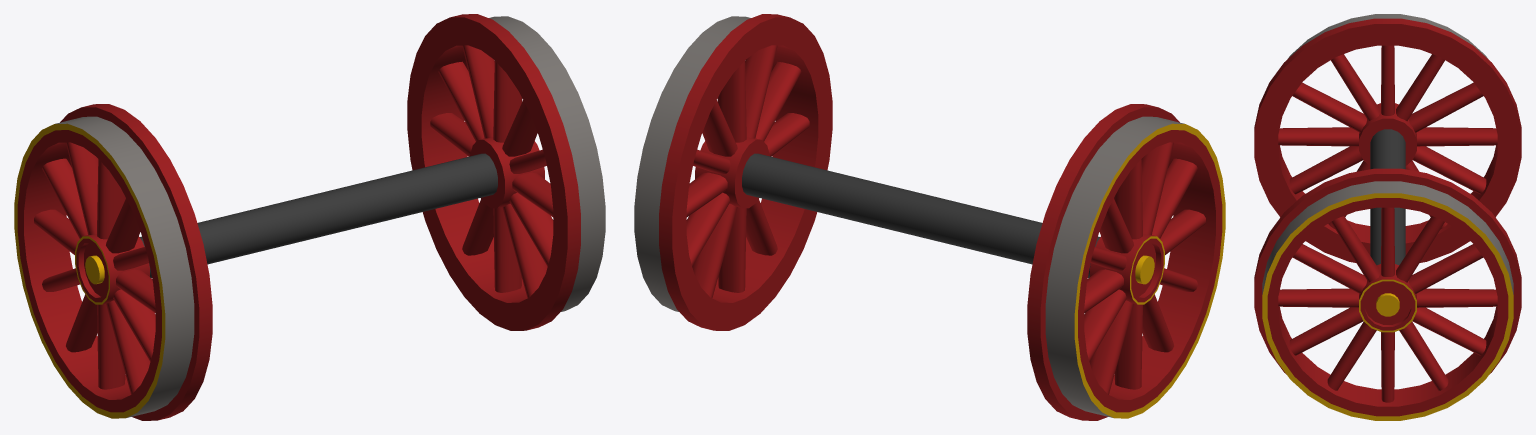
Rendered from SteamLocomotive_01_Wheels_02.fbx.
3 views of the same model, side by side, from view 1: azimuth 30°, elevation 25°; view 2: azimuth 150°, elevation 25°; view 3: azimuth 270°, elevation 25° (orthographic). The views are drawn at different scales.
Visible parts, largest first — view 1: SteamLocomotive_01_Wheels_02; view 2: SteamLocomotive_01_Wheels_02; view 3: SteamLocomotive_01_Wheels_02.
Part boxes in pixels (x1,y1,x2,y2): SteamLocomotive_01_Wheels_02: (14,14,605,420); SteamLocomotive_01_Wheels_02: (634,14,1225,420); SteamLocomotive_01_Wheels_02: (1254,14,1521,420).
Size of the model in its own units: 1.65 by 1.04 by 1.04.
